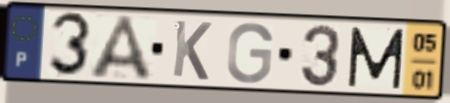3: (44, 10, 98, 80), (297, 22, 341, 89)
A: (86, 13, 157, 83)
G: (224, 20, 275, 86)
K: (169, 18, 214, 83)
M: (345, 25, 407, 91)
